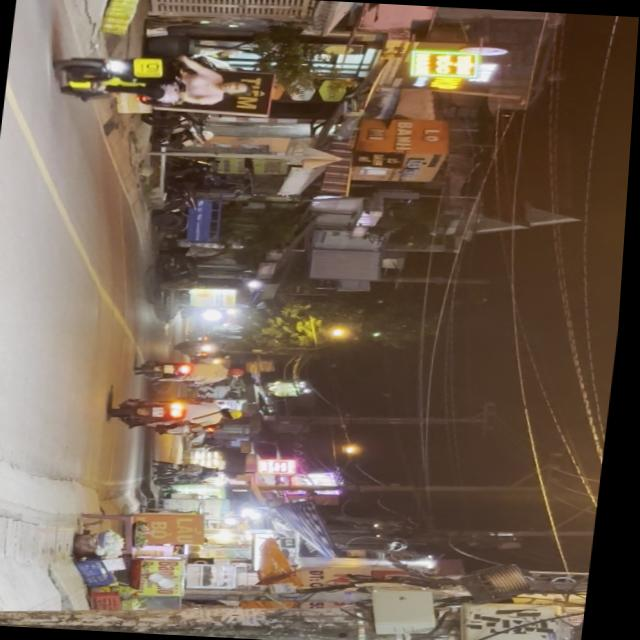licenseplate: (51, 46, 259, 111)
motorcyclist: (221, 78, 256, 96)
